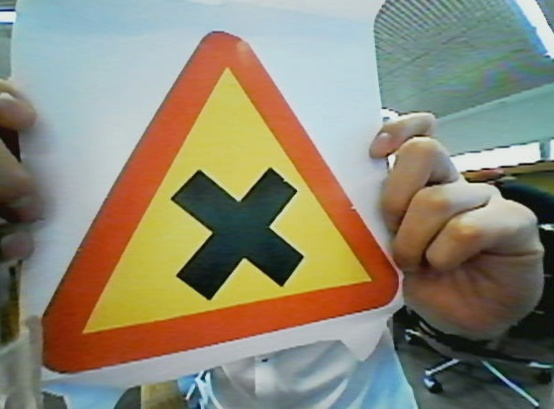junction: (38, 21, 415, 393)
